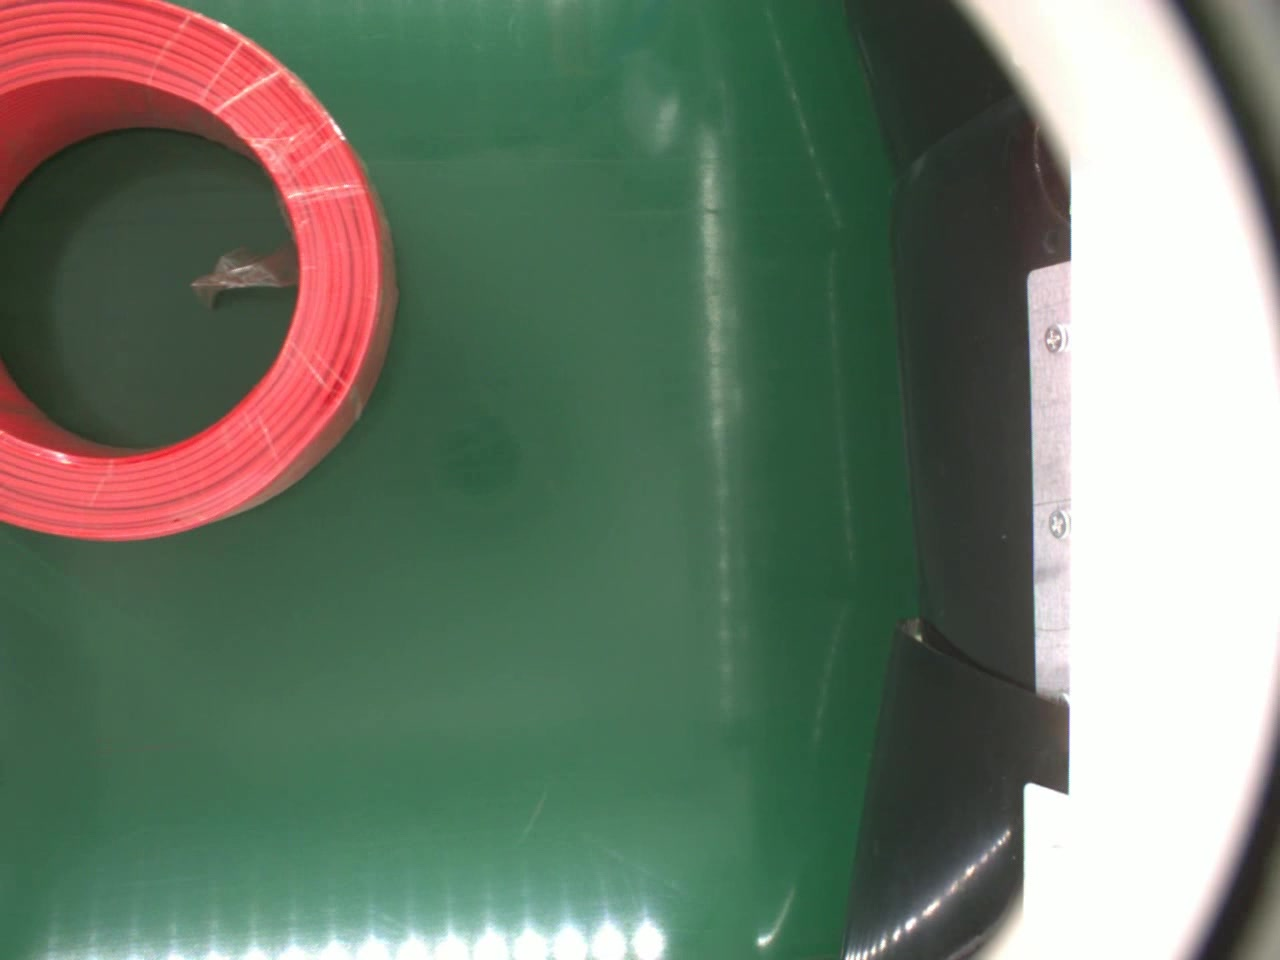red: (0, 0, 397, 544)
